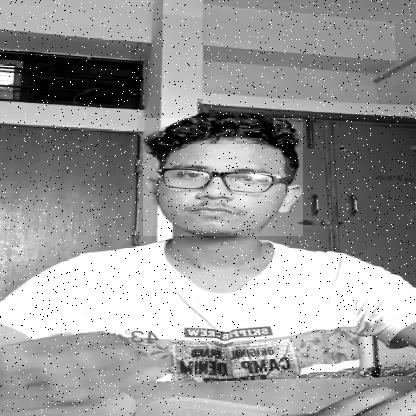Normal: (143, 118, 303, 236)
